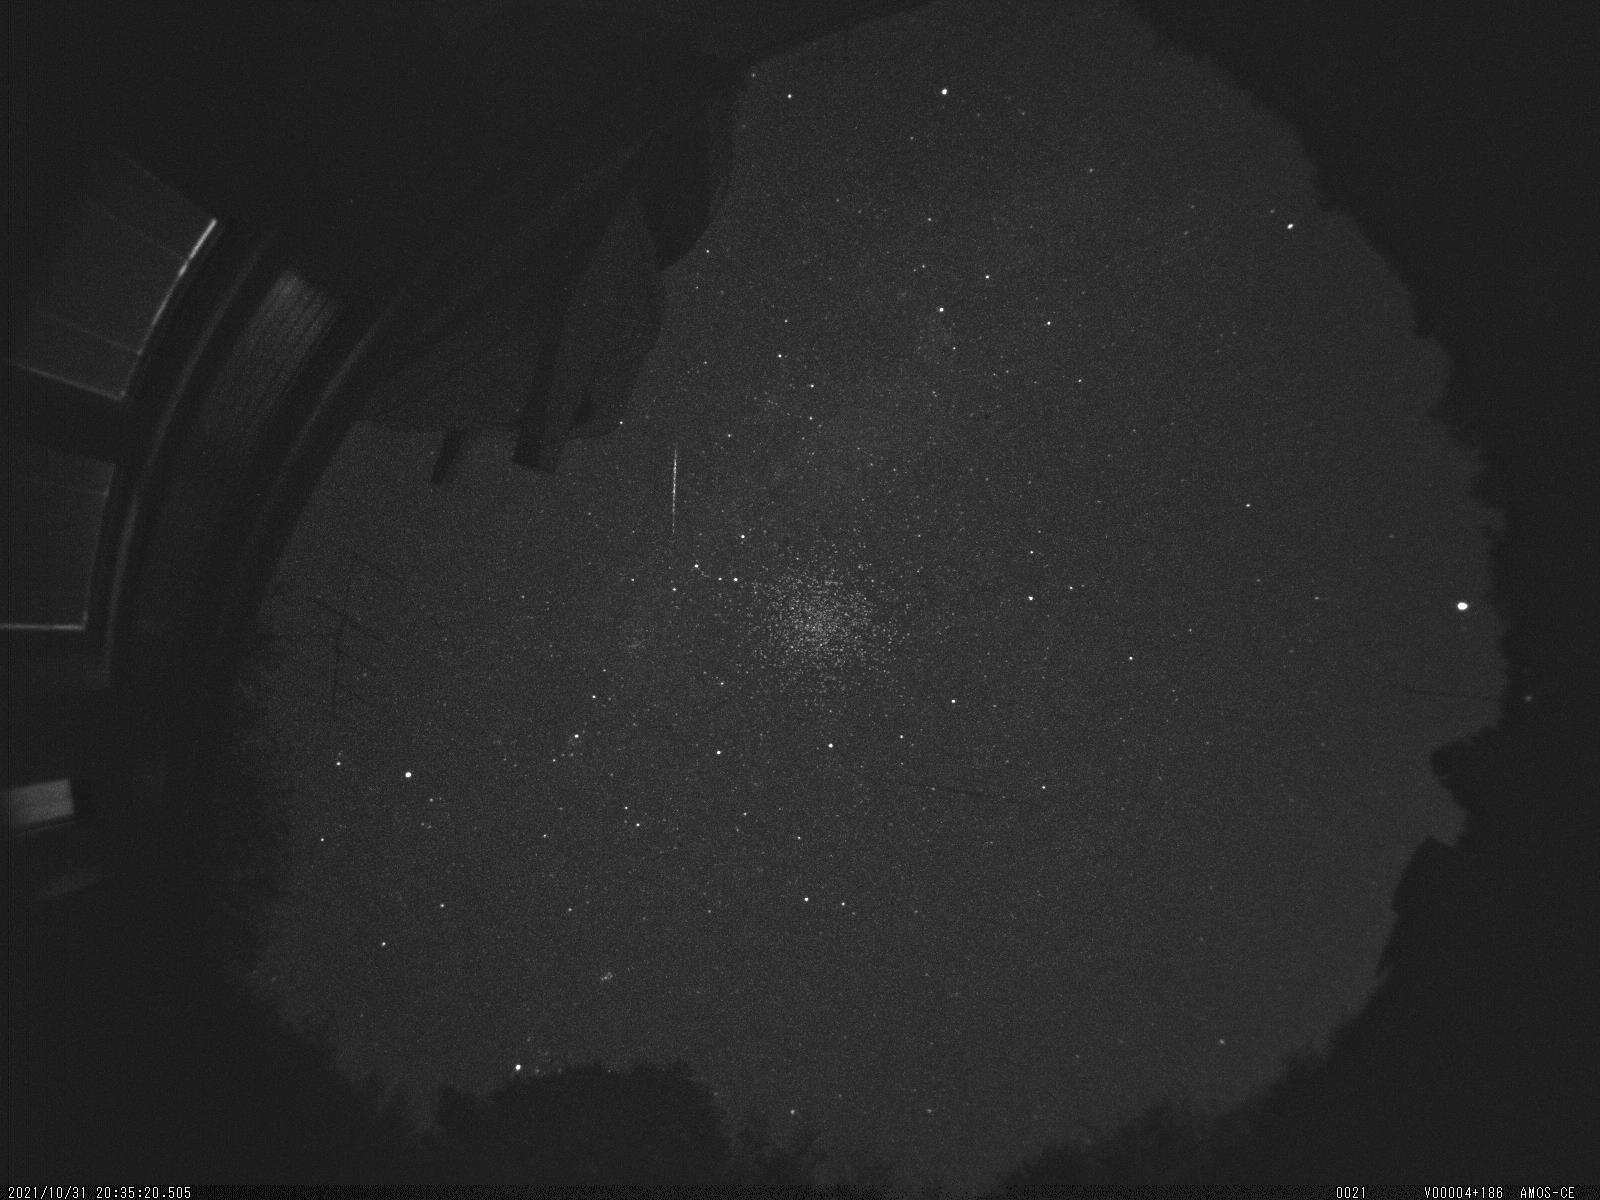Meteor: (666, 427, 690, 553)
